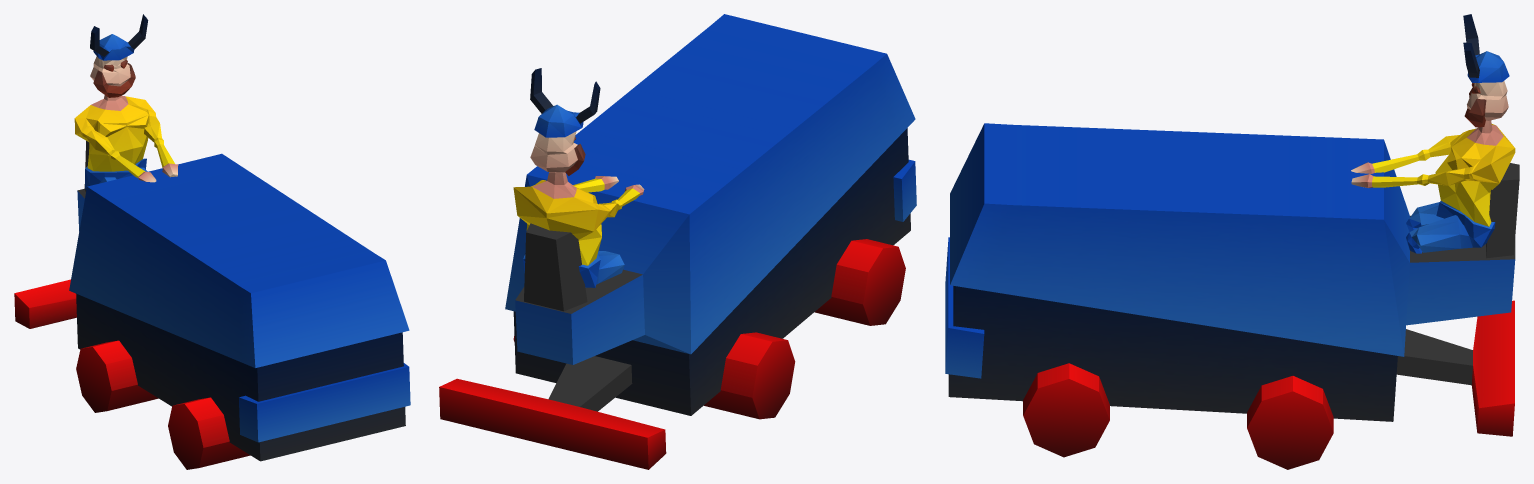
Rendered from Zamboni.fbx.
3 views of the same model, side by side, from view 1: azimuth 30°, elevation 25°; view 2: azimuth 150°, elevation 25°; view 3: azimuth 270°, elevation 25° (orthographic). The views are drawn at different scales.
Parts seen in each view (by area): view 1: Zambonie; view 2: Zambonie; view 3: Zambonie.
Boxes of the visible parts, x1=… form: Zambonie: x1=14, y1=14, x2=410, y2=469; Zambonie: x1=439, y1=14, x2=916, y2=469; Zambonie: x1=945, y1=14, x2=1519, y2=469.
Size of the model in its own units: 20.16 by 30.52 by 41.53.
Materials: 2 (2 with a texture image).
